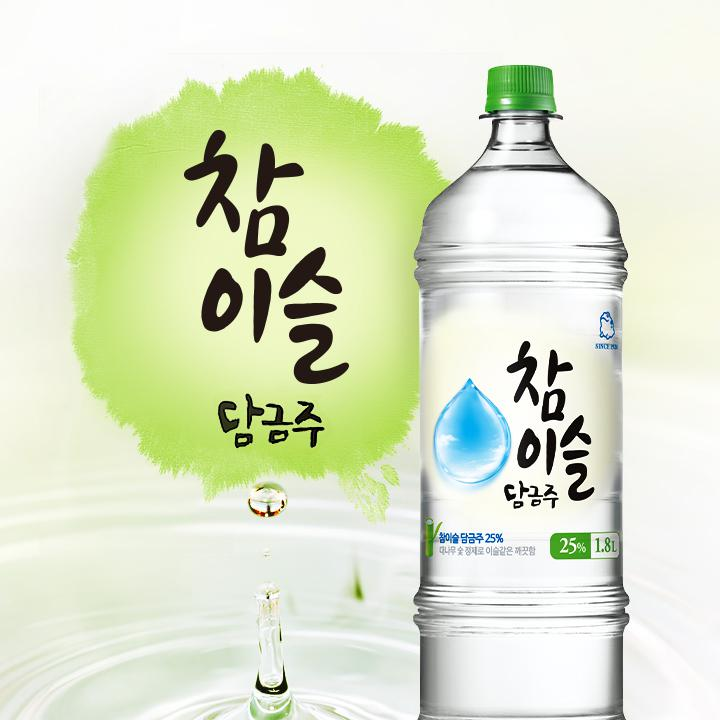soju: (410, 61, 634, 619)
